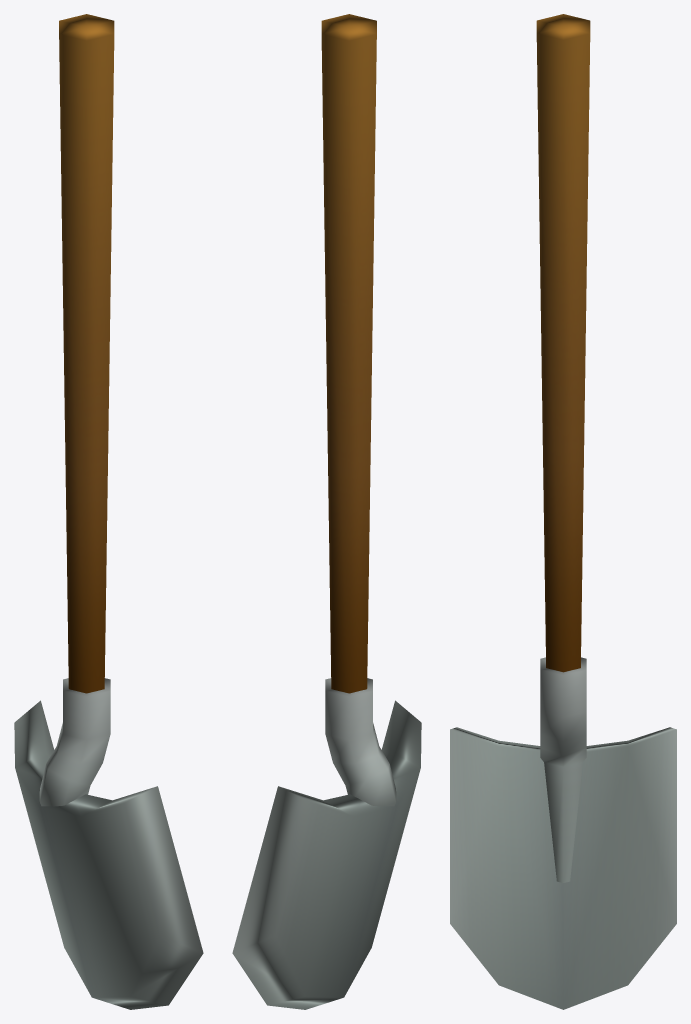
The model's file is shovel.fbx.
3 views of the same model, side by side, from view 1: azimuth 30°, elevation 25°; view 2: azimuth 150°, elevation 25°; view 3: azimuth 270°, elevation 25° (orthographic). The views are drawn at different scales.
Parts seen in each view (by area): view 1: shovel; view 2: shovel; view 3: shovel.
Boxes of the visible parts, x1=… form: shovel: x1=14, y1=14, x2=203, y2=1009; shovel: x1=232, y1=14, x2=421, y2=1009; shovel: x1=450, y1=14, x2=676, y2=1009.
Bounding box in the file's own units: 20.45 × 184 × 39.44.
